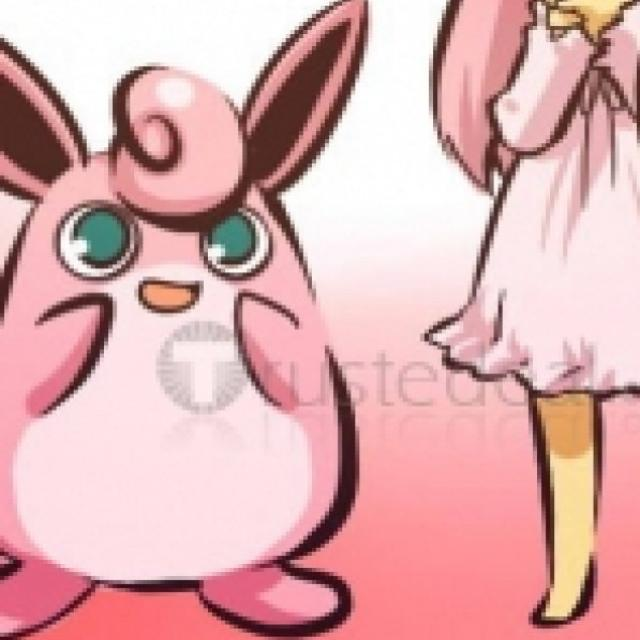Wigglytuff: (0, 50, 354, 621)
